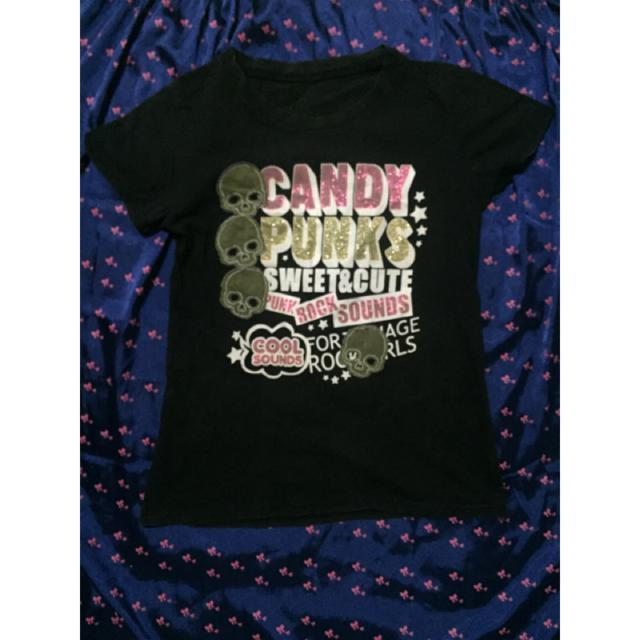Tops: (95, 53, 552, 520)
